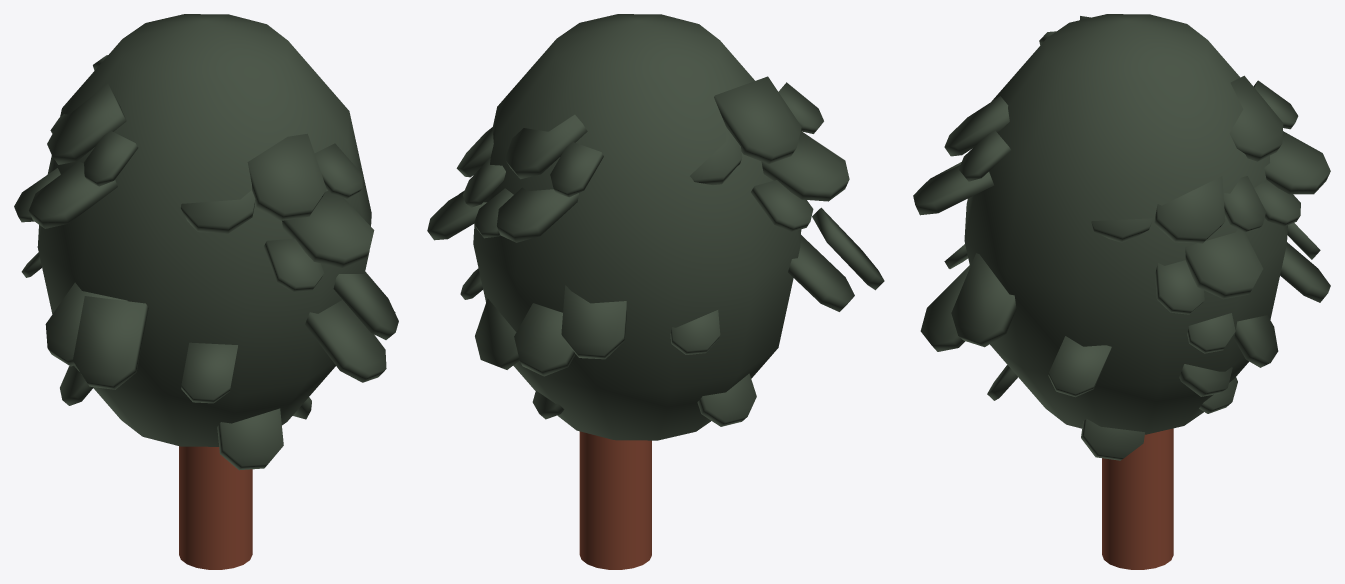
File: Tree_tall.fbx
3 views of the same model, side by side, from view 1: azimuth 30°, elevation 25°; view 2: azimuth 150°, elevation 25°; view 3: azimuth 270°, elevation 25° (orthographic). The views are drawn at different scales.
Parts seen in each view (by area): view 1: Box011; view 2: Box011; view 3: Box011.
Boxes of the visible parts, left/top/right/bottom form: Box011: left=14, top=14, right=398, bottom=569; Box011: left=427, top=14, right=884, bottom=569; Box011: left=913, top=14, right=1330, bottom=569.
Bounding box in the file's own units: 303 × 436 × 314.
